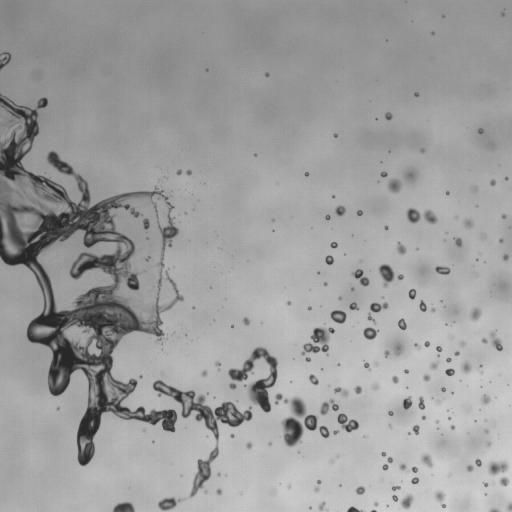droplet: (300, 326, 335, 356), (481, 329, 502, 351), (336, 413, 359, 433), (378, 263, 394, 288), (487, 459, 510, 476), (319, 398, 340, 415), (433, 489, 447, 508), (386, 178, 402, 193), (400, 493, 415, 509), (402, 169, 418, 183), (330, 310, 346, 323), (420, 452, 433, 468), (0, 52, 11, 70), (363, 327, 379, 339), (469, 306, 481, 321), (460, 360, 472, 374), (395, 241, 406, 255), (402, 396, 412, 410), (480, 393, 491, 405), (394, 343, 404, 356), (308, 374, 319, 385), (12, 95, 23, 106), (19, 156, 30, 167), (48, 168, 59, 179), (399, 179, 410, 190), (159, 180, 170, 191), (70, 191, 81, 202), (344, 206, 355, 217), (455, 226, 466, 237), (371, 272, 382, 283), (400, 279, 411, 290), (358, 302, 369, 313), (326, 334, 337, 345), (401, 336, 412, 347), (42, 346, 53, 357), (255, 356, 266, 367), (450, 358, 461, 369), (306, 362, 317, 373), (109, 366, 120, 377), (259, 367, 270, 378), (71, 368, 82, 379), (367, 368, 378, 379), (410, 369, 421, 380), (246, 372, 257, 383), (141, 378, 152, 389), (265, 387, 276, 398), (283, 388, 294, 399), (323, 389, 334, 400), (207, 398, 218, 409), (170, 400, 181, 411), (250, 403, 261, 414), (304, 403, 315, 414), (282, 407, 293, 418), (326, 409, 337, 420), (99, 411, 110, 422), (173, 416, 184, 427), (327, 419, 338, 430), (217, 422, 228, 433), (275, 425, 286, 436), (204, 438, 215, 449), (435, 266, 450, 274), (335, 205, 345, 216), (463, 218, 473, 229), (317, 501, 328, 511), (397, 318, 406, 330), (429, 360, 439, 370), (499, 476, 509, 486), (408, 288, 416, 300), (214, 360, 222, 372), (453, 237, 462, 247), (325, 255, 334, 265), (349, 302, 359, 311), (445, 367, 455, 376), (371, 381, 380, 391), (462, 403, 472, 412), (355, 486, 365, 495), (503, 491, 511, 502), (419, 299, 426, 311), (353, 385, 362, 394), (36, 120, 45, 129), (331, 198, 340, 207), (417, 216, 426, 225), (469, 225, 478, 234), (498, 244, 507, 253), (16, 262, 25, 271), (462, 306, 471, 315), (234, 319, 243, 328), (129, 329, 138, 338), (404, 343, 413, 352), (110, 349, 119, 358), (242, 350, 251, 359), (234, 361, 243, 370), (206, 364, 215, 373), (220, 364, 229, 373), (469, 366, 478, 375), (461, 372, 470, 381), (178, 383, 187, 392), (333, 393, 342, 402), (473, 398, 482, 407), (236, 403, 245, 412), (76, 408, 85, 417), (440, 419, 449, 428), (91, 433, 100, 442), (292, 441, 301, 450), (492, 454, 501, 463), (417, 462, 426, 471), (480, 462, 489, 471), (396, 490, 405, 499), (412, 424, 419, 435), (384, 112, 393, 120), (411, 476, 419, 485), (505, 468, 511, 479), (470, 185, 478, 193), (242, 317, 250, 325), (458, 340, 466, 348), (391, 375, 398, 384), (245, 440, 252, 449), (330, 241, 338, 248), (414, 342, 421, 350), (200, 369, 207, 377), (422, 374, 430, 381), (475, 458, 482, 466), (466, 464, 473, 472), (0, 105, 5, 116), (506, 501, 511, 511), (489, 179, 496, 186), (502, 254, 509, 261), (485, 440, 492, 447), (215, 488, 222, 495), (29, 102, 36, 109), (378, 114, 385, 121), (35, 116, 42, 123), (41, 150, 48, 157), (58, 154, 65, 161), (379, 164, 386, 171), (72, 166, 79, 173), (382, 176, 389, 183), (495, 176, 502, 183), (87, 200, 94, 207), (417, 207, 424, 214), (432, 209, 439, 216), (329, 210, 336, 217), (400, 211, 407, 218), (470, 215, 477, 222), (457, 216, 464, 223), (270, 221, 277, 228), (171, 235, 178, 242), (328, 248, 335, 255), (391, 248, 398, 255), (398, 253, 405, 260), (383, 258, 390, 265), (392, 269, 399, 276), (318, 274, 325, 281), (413, 296, 420, 303), (434, 302, 441, 309), (342, 305, 349, 312), (32, 310, 39, 317), (158, 311, 165, 318), (478, 313, 485, 320), (366, 320, 373, 327), (315, 321, 322, 328), (331, 321, 338, 328), (20, 327, 27, 334), (494, 331, 501, 338), (453, 335, 460, 342), (428, 343, 435, 350), (268, 349, 275, 356), (307, 350, 314, 357), (439, 350, 446, 357), (443, 362, 450, 369), (470, 362, 477, 369), (275, 364, 282, 371), (426, 368, 433, 375), (396, 371, 403, 378), (314, 372, 321, 379), (121, 376, 128, 383), (225, 376, 232, 383), (348, 388, 355, 395), (475, 391, 482, 398), (411, 399, 418, 406), (119, 400, 126, 407), (440, 401, 447, 408), (481, 403, 488, 410), (129, 404, 136, 411), (155, 404, 162, 411), (304, 408, 311, 415), (416, 408, 423, 415), (131, 418, 138, 425), (415, 418, 422, 425), (215, 419, 222, 426), (241, 419, 248, 426), (142, 420, 149, 427), (334, 422, 341, 429), (72, 423, 79, 430), (301, 426, 308, 433), (206, 429, 213, 436), (484, 433, 491, 440), (278, 437, 285, 444), (201, 453, 208, 460), (430, 455, 437, 462), (380, 456, 387, 463), (87, 459, 94, 466), (208, 461, 215, 468), (405, 462, 412, 469), (496, 471, 503, 478), (186, 482, 193, 489), (495, 482, 502, 489), (196, 487, 203, 494), (441, 487, 448, 494), (118, 496, 125, 503), (394, 500, 401, 507), (409, 500, 416, 507), (433, 500, 440, 507), (131, 501, 138, 508), (384, 350, 390, 358), (387, 455, 393, 463), (506, 214, 511, 223), (506, 458, 511, 467), (405, 506, 414, 511), (498, 506, 507, 511), (380, 171, 387, 177), (397, 273, 404, 279), (382, 464, 388, 471), (392, 494, 398, 501), (477, 128, 483, 134), (176, 169, 182, 175), (185, 169, 191, 175), (424, 341, 430, 347), (454, 350, 460, 356), (373, 361, 379, 367), (333, 429, 339, 435), (356, 210, 363, 215), (325, 214, 330, 221), (450, 423, 455, 430), (501, 213, 506, 219), (285, 300, 291, 305), (430, 307, 435, 313), (305, 357, 311, 362), (381, 451, 386, 457), (286, 483, 291, 489), (507, 479, 511, 486), (155, 507, 162, 511), (167, 507, 174, 511), (311, 507, 318, 511), (384, 507, 391, 511), (401, 507, 408, 511), (430, 30, 435, 35), (264, 72, 269, 77), (414, 92, 419, 97), (333, 133, 338, 138), (420, 148, 425, 153), (304, 172, 309, 177), (384, 225, 389, 230), (498, 238, 503, 243), (446, 357, 451, 362), (388, 411, 393, 416), (421, 415, 426, 420), (230, 433, 235, 438), (373, 501, 378, 506), (1, 65, 6, 70), (265, 67, 270, 72), (38, 93, 43, 98), (46, 99, 51, 104), (44, 104, 49, 109), (36, 107, 41, 112), (390, 110, 395, 115), (390, 116, 395, 121), (8, 127, 13, 132), (33, 135, 38, 140), (175, 164, 180, 169), (172, 167, 177, 172), (190, 168, 195, 173), (181, 169, 186, 174), (33, 170, 38, 175), (81, 174, 86, 179), (485, 178, 490, 183), (494, 181, 499, 186), (87, 186, 92, 191), (134, 186, 139, 191), (140, 186, 145, 191), (148, 186, 153, 191), (127, 187, 132, 192), (122, 188, 127, 193), (117, 189, 122, 194), (186, 208, 191, 213), (342, 211, 347, 216), (496, 213, 501, 218), (173, 222, 178, 227), (454, 233, 459, 238), (502, 236, 507, 241), (450, 239, 455, 244), (460, 239, 465, 244), (502, 239, 507, 244), (400, 240, 405, 245), (392, 242, 397, 247), (498, 242, 503, 247), (164, 245, 169, 250), (402, 252, 407, 257), (498, 252, 503, 257), (478, 256, 483, 261), (162, 258, 167, 263), (437, 261, 442, 266), (358, 264, 363, 269), (351, 266, 356, 271), (430, 266, 435, 271), (392, 273, 397, 278), (441, 273, 446, 278), (172, 277, 177, 282), (387, 280, 392, 285), (175, 283, 180, 288), (359, 284, 364, 289), (35, 285, 40, 290), (178, 290, 183, 295), (404, 294, 409, 299), (282, 297, 287, 302), (176, 299, 181, 304), (346, 299, 351, 304), (377, 299, 382, 304), (423, 299, 428, 304), (387, 302, 392, 307), (335, 305, 340, 310), (365, 306, 370, 311), (425, 306, 430, 311), (379, 307, 384, 312), (370, 311, 375, 316), (325, 312, 330, 317), (238, 315, 243, 320), (247, 315, 252, 320), (344, 317, 349, 322), (24, 320, 29, 325), (248, 320, 253, 325), (239, 321, 244, 326), (158, 324, 163, 329), (372, 324, 377, 329), (489, 326, 494, 331), (308, 330, 313, 335), (358, 330, 363, 335), (375, 331, 380, 336), (151, 333, 156, 338), (359, 333, 364, 338), (23, 336, 28, 341), (372, 336, 377, 341), (462, 336, 467, 341), (182, 337, 187, 342), (476, 337, 481, 342), (366, 338, 371, 343), (419, 340, 424, 345), (500, 341, 505, 346), (480, 342, 485, 347), (156, 343, 161, 348), (298, 346, 303, 351), (456, 346, 461, 351), (491, 346, 496, 351), (388, 348, 393, 353), (317, 349, 322, 354), (399, 352, 404, 357), (450, 354, 455, 359), (300, 355, 305, 360), (111, 360, 116, 365), (368, 362, 373, 367), (212, 365, 217, 370), (198, 366, 203, 371), (196, 369, 201, 374), (133, 375, 138, 380), (275, 375, 280, 380), (418, 375, 423, 380), (152, 376, 157, 381), (201, 376, 206, 381), (162, 378, 167, 383), (305, 378, 310, 383), (317, 378, 322, 383), (233, 379, 238, 384), (388, 379, 393, 384), (423, 380, 428, 385), (170, 382, 175, 387), (332, 383, 337, 388), (339, 383, 344, 388), (134, 384, 139, 389), (65, 385, 70, 390), (148, 385, 153, 390), (44, 386, 49, 391), (360, 386, 365, 391), (227, 387, 232, 392), (445, 388, 450, 393), (45, 389, 50, 394), (153, 389, 158, 394), (375, 389, 380, 394), (336, 391, 341, 396), (47, 392, 52, 397), (128, 392, 133, 397), (57, 393, 62, 398), (83, 393, 88, 398), (281, 393, 286, 398), (402, 393, 407, 398), (489, 394, 494, 399), (223, 397, 228, 402), (324, 397, 329, 402), (422, 399, 427, 404), (398, 400, 403, 405), (487, 401, 492, 406), (210, 406, 215, 411), (407, 406, 412, 411), (144, 409, 149, 414), (335, 409, 340, 414), (265, 411, 270, 416), (446, 411, 451, 416), (346, 415, 351, 420), (355, 417, 360, 422), (448, 419, 453, 424), (357, 421, 362, 426), (391, 422, 396, 427), (482, 422, 487, 427), (445, 425, 450, 430), (314, 426, 319, 431), (417, 427, 422, 432), (488, 427, 493, 432), (341, 428, 346, 433), (478, 428, 483, 433), (350, 429, 355, 434), (435, 429, 440, 434), (166, 430, 171, 435), (328, 430, 333, 435), (217, 434, 222, 439), (242, 439, 247, 444), (241, 444, 246, 449), (209, 445, 214, 450), (250, 445, 255, 450), (217, 446, 222, 451), (73, 448, 78, 453), (329, 452, 334, 457), (385, 452, 390, 457), (73, 457, 78, 462), (334, 458, 339, 463), (400, 458, 405, 463), (387, 462, 392, 467), (471, 462, 476, 467), (461, 465, 466, 470), (193, 467, 198, 472), (468, 470, 473, 475), (411, 472, 416, 477), (202, 480, 207, 485), (281, 481, 286, 486), (353, 483, 358, 488), (363, 484, 368, 489), (499, 484, 504, 489), (221, 488, 226, 493), (393, 489, 398, 494), (166, 493, 171, 498), (214, 493, 219, 498), (358, 493, 363, 498), (173, 495, 178, 500), (157, 496, 162, 501), (441, 498, 446, 503), (175, 501, 180, 506), (492, 503, 497, 508), (344, 504, 349, 509), (354, 504, 359, 509), (370, 504, 375, 509), (403, 369, 409, 373), (440, 387, 446, 391), (388, 423, 392, 429), (0, 257, 3, 264), (163, 175, 168, 179), (445, 190, 449, 195), (307, 306, 312, 310), (142, 427, 146, 432), (216, 471, 220, 476), (447, 472, 451, 477), (501, 12, 505, 16), (441, 14, 445, 18), (504, 176, 508, 180), (331, 194, 335, 198), (454, 215, 458, 219), (271, 218, 275, 222), (323, 282, 327, 286), (338, 296, 342, 300), (183, 333, 187, 337), (447, 416, 451, 420), (239, 491, 243, 495), (268, 441, 271, 446), (508, 175, 511, 180), (508, 254, 511, 259), (253, 153, 257, 156), (443, 238, 446, 242), (415, 247, 419, 250), (316, 271, 320, 274), (231, 324, 234, 328), (188, 339, 192, 342), (161, 348, 164, 352), (139, 374, 142, 378), (450, 391, 454, 394), (56, 406, 59, 410), (407, 432, 411, 435), (0, 54, 2, 59), (205, 68, 208, 71), (377, 180, 380, 183), (475, 204, 478, 207), (184, 211, 187, 214), (475, 258, 478, 261), (209, 286, 212, 289), (381, 296, 384, 299), (192, 306, 195, 309), (212, 318, 215, 321), (260, 321, 263, 324), (337, 363, 340, 366), (289, 380, 292, 383), (206, 392, 209, 395), (478, 408, 481, 411), (474, 419, 477, 422), (297, 450, 300, 453), (224, 473, 227, 476), (430, 473, 433, 476), (180, 474, 183, 477), (386, 504, 389, 507), (308, 506, 311, 509), (500, 8, 503, 11), (443, 12, 446, 15), (442, 17, 445, 20), (429, 28, 432, 31), (434, 31, 437, 34), (430, 34, 433, 37), (8, 50, 11, 53), (10, 55, 13, 58), (7, 61, 10, 64), (204, 65, 207, 68), (208, 68, 211, 71), (205, 71, 208, 74), (268, 71, 271, 74), (262, 74, 265, 77), (265, 76, 268, 79), (414, 89, 417, 92), (418, 92, 421, 95), (411, 94, 414, 97), (415, 96, 418, 99), (372, 115, 375, 118), (373, 119, 376, 122), (480, 125, 483, 128), (474, 129, 477, 132), (334, 130, 337, 133), (481, 132, 484, 135), (478, 133, 481, 136), (336, 135, 339, 138), (332, 136, 335, 139), (386, 147, 389, 150), (29, 148, 32, 151), (390, 149, 393, 152), (252, 150, 255, 153), (256, 152, 259, 155), (251, 155, 254, 158), (379, 157, 382, 160), (376, 160, 379, 163), (305, 168, 308, 171), (385, 169, 388, 172), (308, 170, 311, 173), (189, 173, 192, 176), (301, 173, 304, 176), (307, 174, 310, 177), (501, 176, 504, 179), (162, 177, 165, 180), (442, 191, 445, 194), (328, 194, 331, 197), (334, 194, 337, 197), (445, 194, 448, 197), (170, 202, 173, 205), (184, 208, 187, 211), (354, 208, 357, 211), (361, 208, 364, 211), (180, 211, 183, 214), (503, 211, 506, 214), (354, 213, 357, 216), (169, 214, 172, 217), (360, 214, 363, 217), (357, 215, 360, 218), (466, 215, 469, 218), (322, 216, 325, 219), (502, 218, 505, 221), (324, 219, 327, 222), (383, 222, 386, 225), (387, 225, 390, 228), (381, 226, 384, 229), (268, 228, 271, 231), (385, 229, 388, 232), (271, 231, 274, 234), (499, 235, 502, 238), (332, 238, 335, 241), (495, 238, 498, 241), (329, 239, 332, 242), (336, 241, 339, 244), (219, 244, 222, 247), (217, 248, 220, 251), (344, 250, 347, 253), (415, 250, 418, 253), (342, 255, 345, 258), (474, 255, 477, 258), (332, 256, 335, 259), (322, 257, 325, 260), (474, 260, 477, 263), (325, 263, 328, 266), (330, 263, 333, 266), (161, 268, 164, 271), (315, 268, 318, 271), (319, 271, 322, 274), (448, 271, 451, 274), (316, 273, 319, 276), (168, 274, 171, 277), (400, 278, 403, 281), (325, 279, 328, 282), (320, 282, 323, 285), (327, 282, 330, 285), (210, 283, 213, 286), (324, 285, 327, 288), (413, 286, 416, 289), (347, 287, 350, 290), (208, 288, 211, 291), (406, 288, 409, 291), (415, 289, 418, 292), (351, 290, 354, 293), (405, 292, 408, 295), (335, 294, 338, 297), (439, 296, 442, 299), (290, 300, 293, 303), (442, 300, 445, 303), (190, 303, 193, 306), (308, 303, 311, 306), (288, 304, 291, 307), (356, 304, 359, 307), (304, 305, 307, 308), (311, 305, 314, 308), (194, 306, 197, 309), (417, 307, 420, 310), (190, 308, 193, 311), (353, 308, 356, 311), (308, 309, 311, 312), (432, 311, 435, 314), (397, 316, 400, 319), (209, 319, 212, 322), (395, 319, 398, 322), (404, 320, 407, 323), (441, 322, 444, 325), (447, 322, 450, 325), (451, 322, 454, 325), (227, 324, 230, 327), (233, 324, 236, 327), (444, 325, 447, 328), (229, 327, 232, 330), (397, 327, 400, 330), (183, 329, 186, 332), (333, 330, 336, 333), (175, 331, 178, 334), (186, 332, 189, 335), (179, 333, 182, 336), (172, 334, 175, 337), (182, 335, 185, 338), (187, 340, 190, 343), (162, 342, 165, 345), (411, 344, 414, 347), (440, 344, 443, 347), (162, 348, 165, 351), (435, 350, 438, 353), (438, 351, 441, 354), (381, 353, 384, 356), (218, 359, 221, 362), (291, 359, 294, 362), (364, 359, 367, 362), (304, 360, 307, 363), (335, 360, 338, 363), (339, 361, 342, 364), (361, 361, 364, 364), (476, 363, 479, 366), (320, 364, 323, 367), (218, 365, 221, 368), (336, 365, 339, 368), (405, 366, 408, 369), (364, 367, 367, 370), (478, 367, 481, 370), (408, 370, 411, 373), (404, 372, 407, 375), (443, 372, 446, 375), (141, 373, 144, 376), (448, 375, 451, 378), (288, 377, 291, 380), (291, 380, 294, 383), (506, 380, 509, 383), (288, 382, 291, 385), (479, 382, 482, 385), (311, 383, 314, 386), (407, 384, 410, 387), (440, 384, 443, 387), (450, 388, 453, 391), (331, 389, 334, 392), (441, 391, 444, 394), (453, 391, 456, 394), (334, 401, 337, 404), (53, 406, 56, 409), (388, 407, 391, 410), (58, 408, 61, 411), (443, 408, 446, 411), (449, 408, 452, 411), (391, 409, 394, 412), (392, 412, 395, 415), (387, 414, 390, 417), (436, 416, 439, 419), (444, 416, 447, 419), (473, 416, 476, 419), (334, 417, 337, 420), (424, 417, 427, 420), (476, 419, 479, 422), (473, 421, 476, 424), (435, 423, 438, 426), (454, 425, 457, 428), (386, 426, 389, 429), (411, 430, 414, 433), (406, 434, 409, 437), (151, 436, 154, 439), (321, 436, 324, 439), (154, 439, 157, 442), (266, 439, 269, 442), (148, 440, 151, 443), (271, 442, 274, 445), (490, 443, 493, 446), (265, 444, 268, 447), (381, 448, 384, 451), (297, 453, 300, 456), (378, 453, 381, 456), (391, 456, 394, 459), (412, 463, 415, 466), (379, 464, 382, 467), (384, 469, 387, 472), (220, 473, 223, 476), (316, 476, 319, 479), (483, 479, 486, 482), (417, 480, 420, 483), (336, 481, 339, 484), (314, 482, 317, 485), (318, 483, 321, 486), (341, 483, 344, 486), (393, 483, 396, 486), (480, 483, 483, 486), (290, 484, 293, 487), (486, 485, 489, 488), (339, 486, 342, 489), (388, 486, 391, 489), (311, 490, 314, 493), (353, 490, 356, 493), (362, 491, 365, 494), (483, 495, 486, 498), (389, 497, 392, 500), (319, 499, 322, 502), (376, 499, 379, 502), (383, 504, 386, 507), (305, 505, 308, 508), (438, 505, 441, 508), (386, 506, 389, 509), (442, 507, 445, 510), (400, 479, 402, 483), (388, 150, 391, 152), (445, 232, 448, 234), (443, 305, 446, 307), (445, 322, 447, 325), (320, 368, 323, 370), (406, 386, 409, 388), (213, 396, 215, 399), (431, 396, 433, 399), (235, 400, 238, 402), (446, 409, 449, 411), (440, 433, 443, 435), (206, 435, 209, 437), (152, 440, 154, 443), (279, 482, 281, 485), (484, 493, 487, 495), (509, 227, 511, 230), (509, 382, 511, 385), (308, 509, 311, 511), (375, 118, 377, 120), (380, 161, 382, 163), (344, 253, 346, 255), (483, 261, 485, 263), (440, 300, 442, 302), (320, 305, 322, 307), (323, 322, 325, 324), (459, 379, 461, 381), (339, 484, 341, 486), (0, 50, 1, 53), (386, 39, 387, 41), (351, 234, 353, 235), (453, 321, 455, 322), (489, 381, 491, 382), (480, 386, 482, 387), (495, 396, 496, 398)
ligament: (406, 208, 438, 224), (350, 268, 369, 286), (112, 501, 135, 511), (398, 462, 418, 473), (333, 386, 349, 397), (483, 422, 496, 434), (328, 453, 339, 465), (312, 479, 321, 493), (361, 360, 371, 371), (346, 506, 366, 511), (418, 396, 425, 409), (482, 481, 495, 487), (436, 345, 442, 357), (477, 364, 483, 375), (434, 419, 440, 429), (488, 507, 502, 511), (350, 284, 354, 291), (217, 246, 222, 250), (171, 331, 175, 336), (362, 435, 368, 438), (484, 419, 488, 423), (294, 341, 297, 346), (370, 509, 377, 511), (192, 206, 195, 210), (158, 178, 160, 182), (272, 228, 274, 231), (176, 189, 179, 190)
